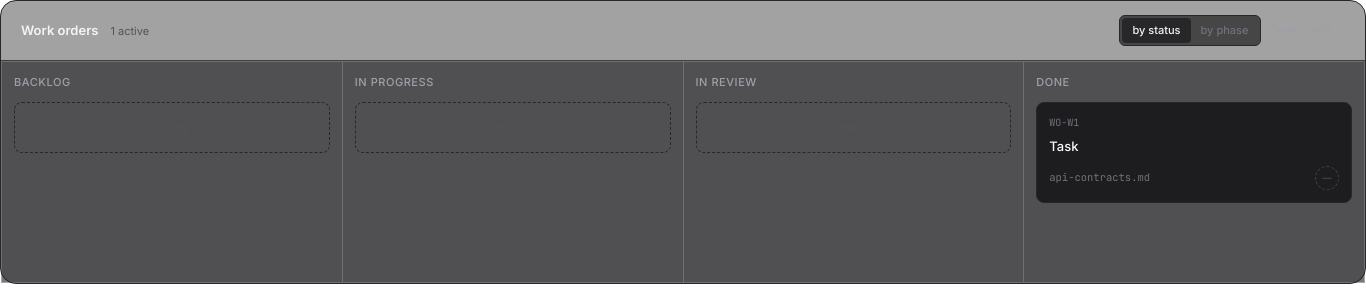
Scenario: ProjectWorkOrderKanbanPreview › switches to by phase columns when toggled
Click the button "by phase" at (1224,30), box x1=1190 y1=18 x2=1258 y2=42
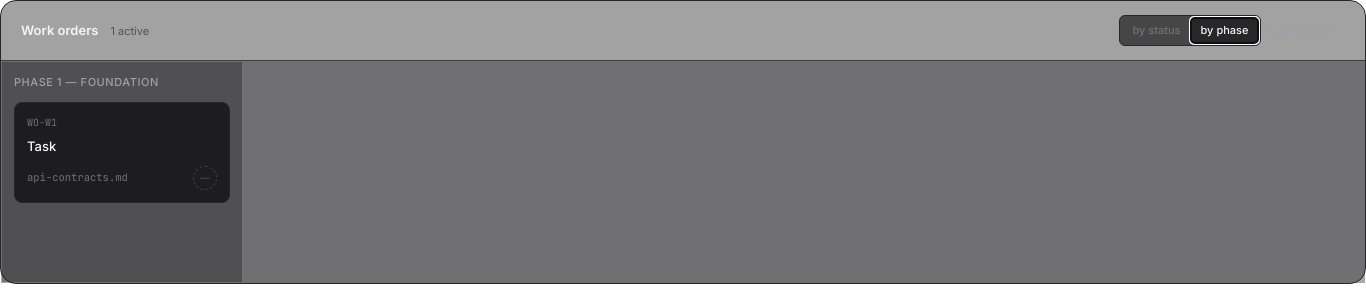
Result: the text "PHASE 1 — FOUNDATION" is shown at x1=14 y1=74 x2=159 y2=90
